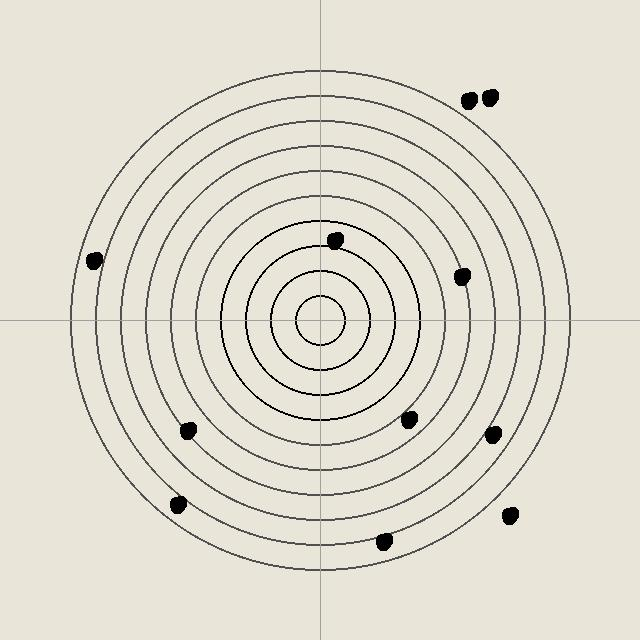random_scatter: (324, 230, 344, 250), (373, 531, 393, 551), (482, 424, 502, 444), (167, 494, 187, 514), (398, 409, 418, 429), (83, 250, 103, 270), (458, 90, 478, 110), (499, 505, 519, 525), (451, 266, 471, 286), (479, 87, 499, 107), (177, 420, 197, 440)
